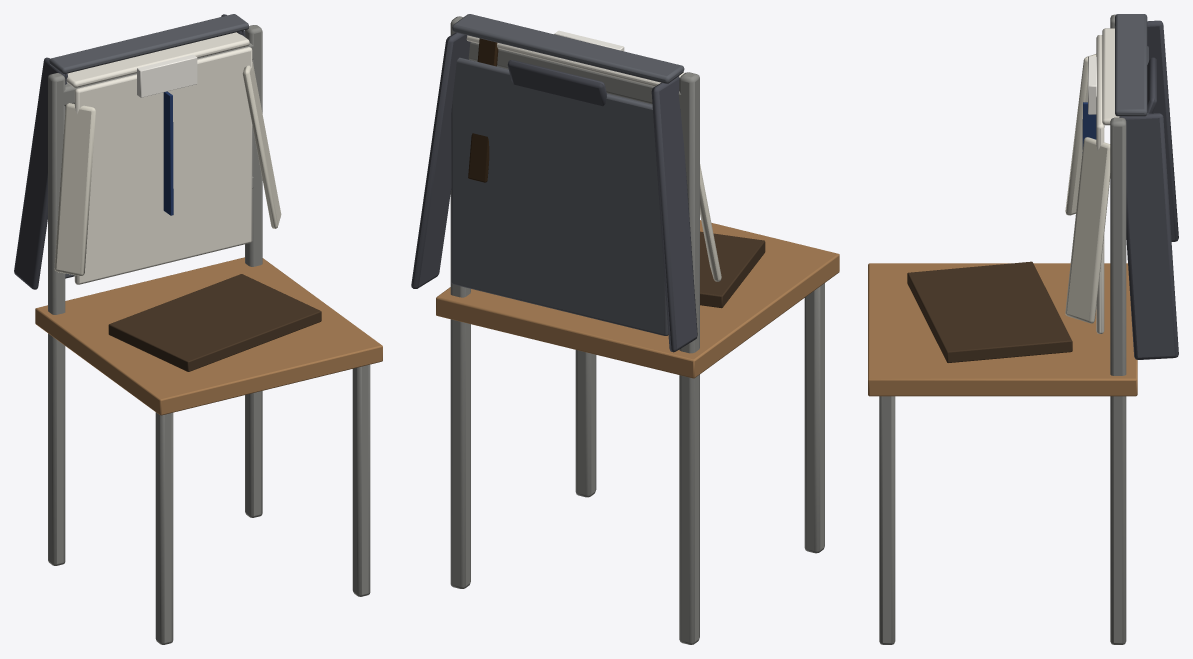
Rendered from GheTua_AoBo_Fix.glb.
3 views of the same model, side by side, from view 1: azimuth 30°, elevation 25°; view 2: azimuth 150°, elevation 25°; view 3: azimuth 270°, elevation 25° (orthographic). The views are drawn at different scales.
Parts seen in each view (by area): view 1: GheTua_AoBo_Fix; view 2: GheTua_AoBo_Fix; view 3: GheTua_AoBo_Fix.
Boxes of the visible parts, box(x1,y1,x2,y2) form: GheTua_AoBo_Fix: box(14, 14, 382, 644); GheTua_AoBo_Fix: box(411, 14, 839, 644); GheTua_AoBo_Fix: box(868, 14, 1178, 644).
Bounding box in the file's own units: 0.4406 × 0.911 × 0.4846.
